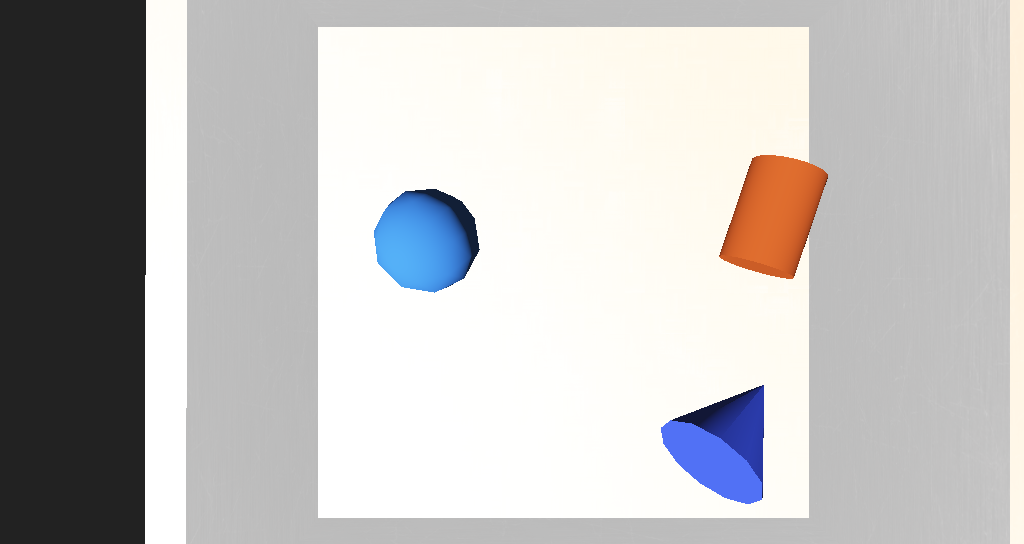cone: (596, 215, 670, 272)
cylinder: (556, 293, 670, 375)
sphere: (394, 236, 455, 279)
